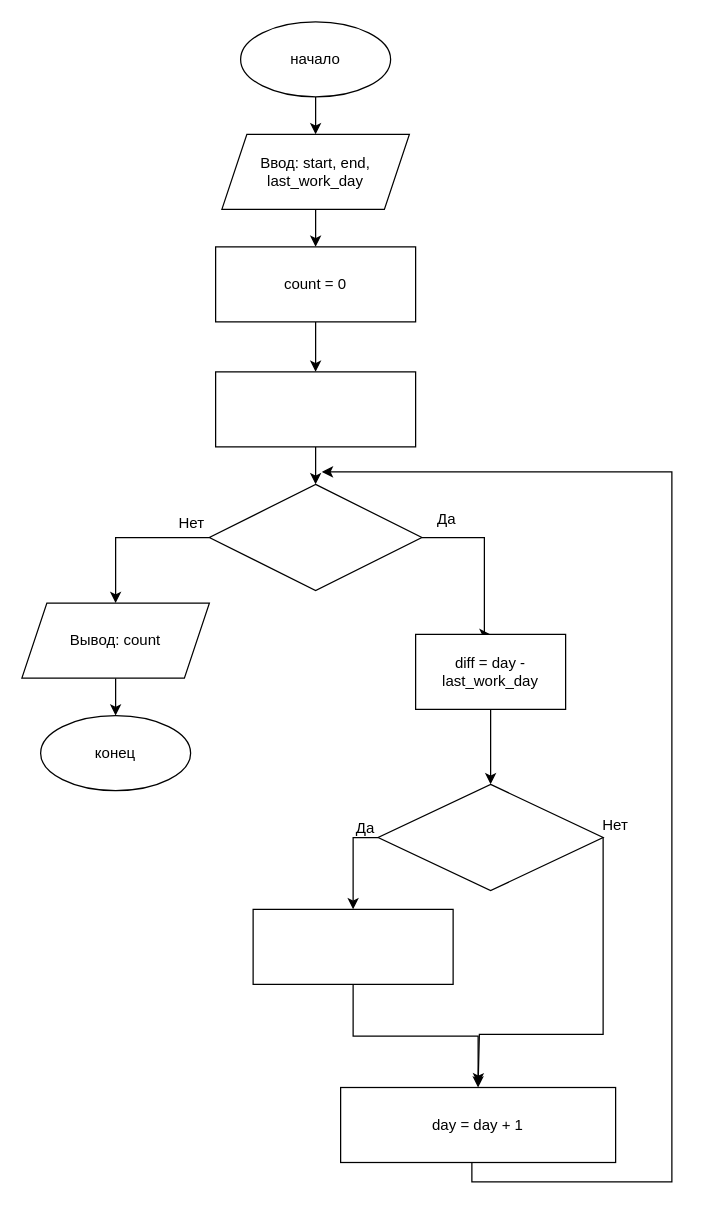
The diagram is 704 pixels wide and 1214 high, and some of its shapes have lost their labels. The centre of each missing label's shape, as x and y in pixels:
"count += 1" belongs at point 352,946.
"day <= end" belongs at point 315,537.
"day = start" belongs at point 315,409.
"diff mod 4 == 0 ИЛИ diff mod 4 == 3" belongs at point 490,837.
